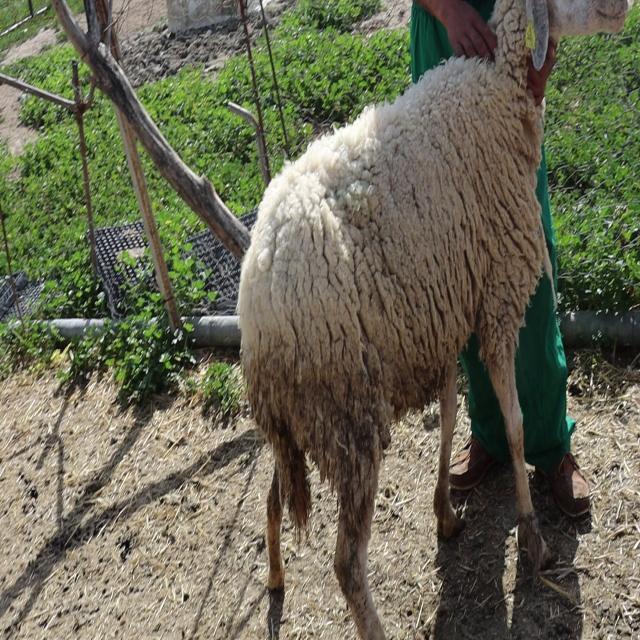Score_2: (237, 0, 626, 639)
